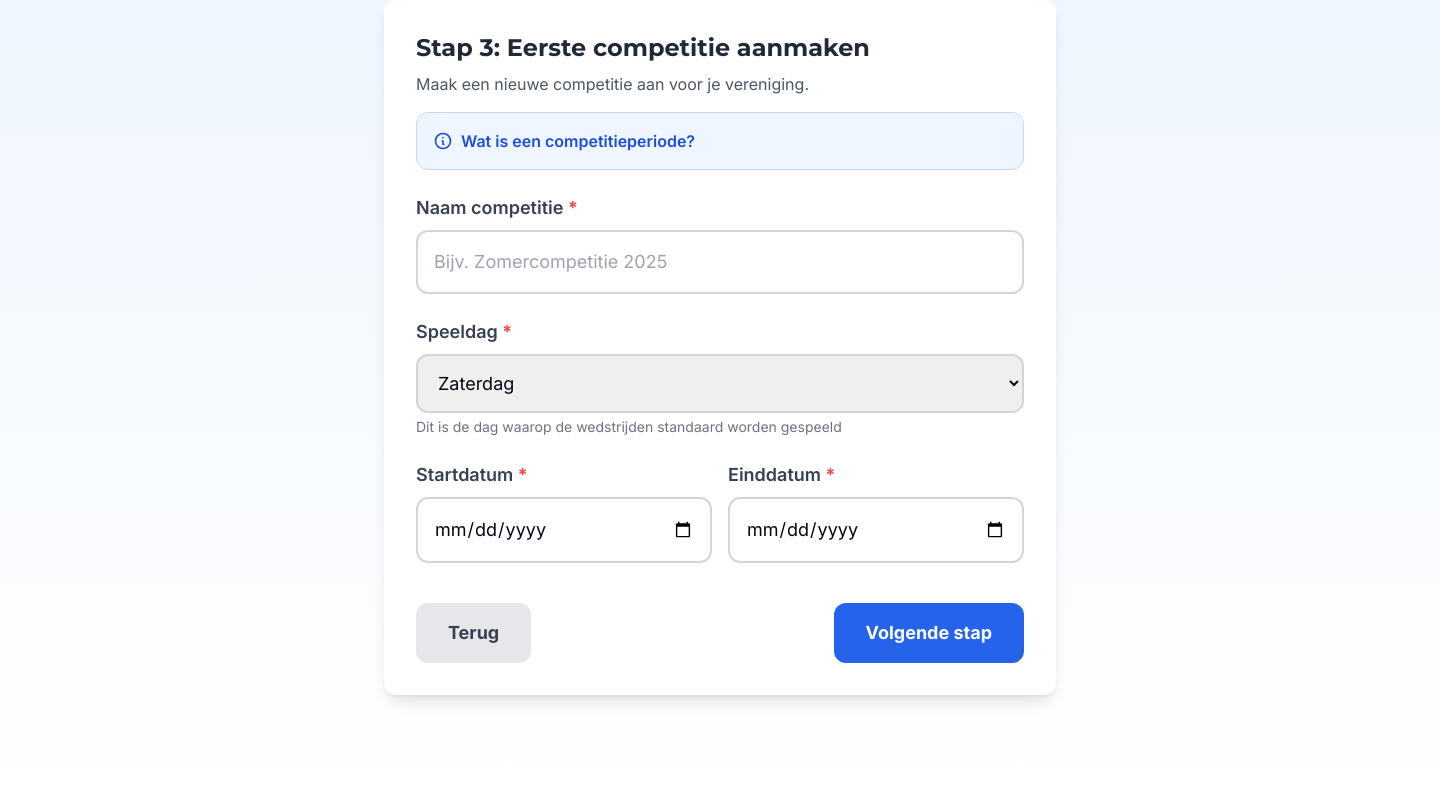
Scenario: CompetitionStep › Zod validation (onBlur) › should show error for empty naam on blur
Click the field labelled "Naam competitie *" at coordinates (720, 262), box 416,230 -> 1024,294
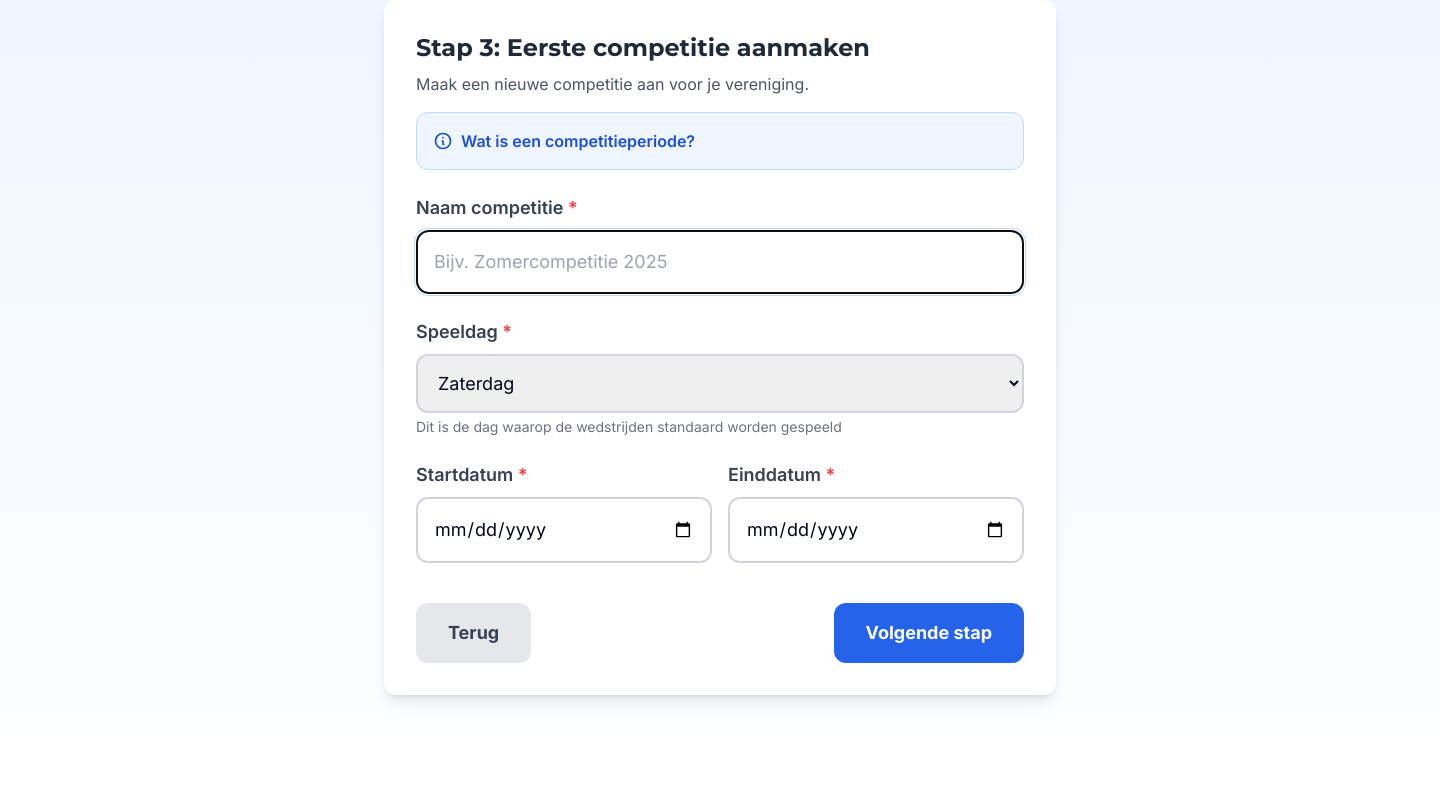
Press Tab
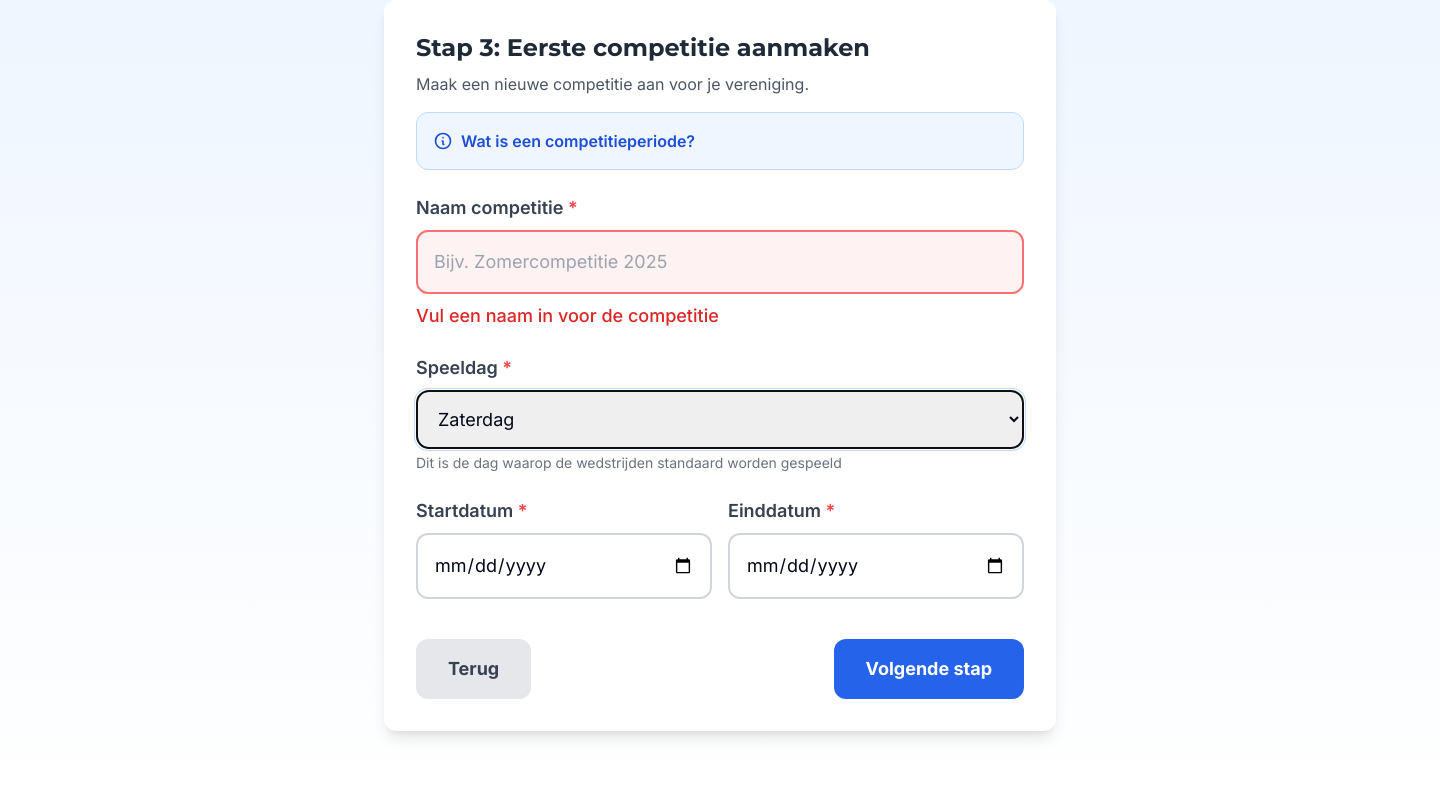
Expected: the text "Vul een naam in voor de competitie" is shown, 416,305 -> 719,326
